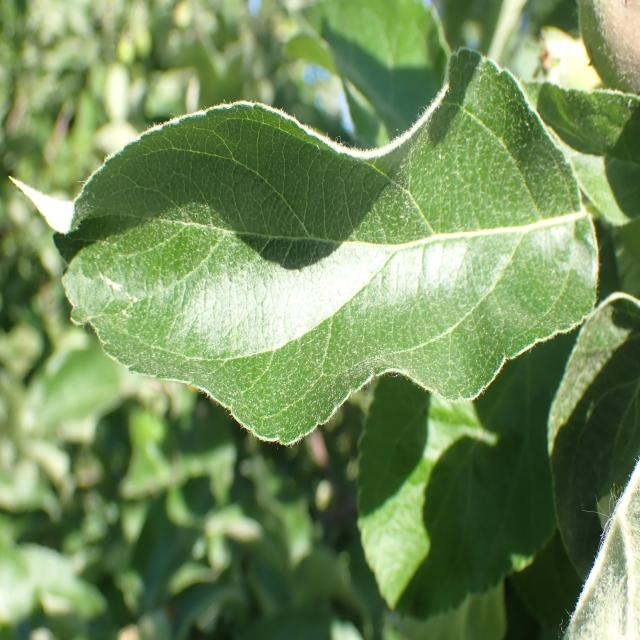healthy: (49, 50, 602, 448), (354, 292, 599, 620), (545, 290, 640, 586)
